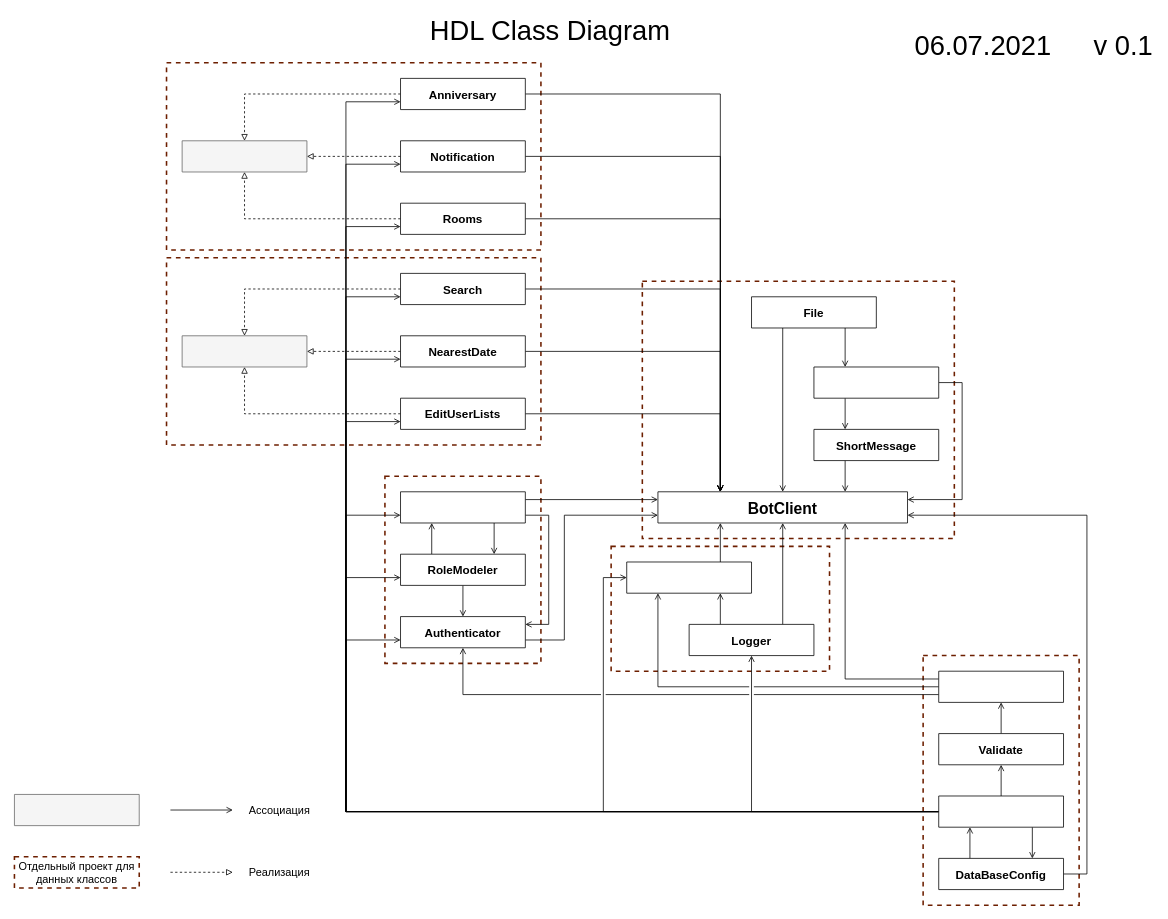
The diagram is 1168 pixels wide and 919 high, and some of its shapes have lost their labels. Each missing label, with the box of its shape:
BotResources: (813, 366, 939, 398)
Entities: (938, 795, 1064, 827)
IAction: (181, 335, 307, 367)
IService: (181, 140, 307, 172)
Query: (938, 670, 1064, 702)
Statistics: (626, 561, 752, 593)
User: (400, 491, 525, 523)
Класс: (14, 794, 139, 826)
